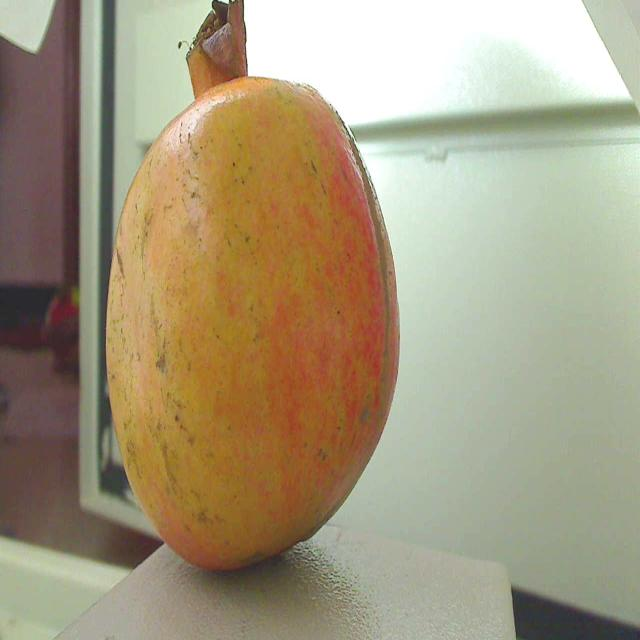pomegranate: (84, 0, 408, 589)
